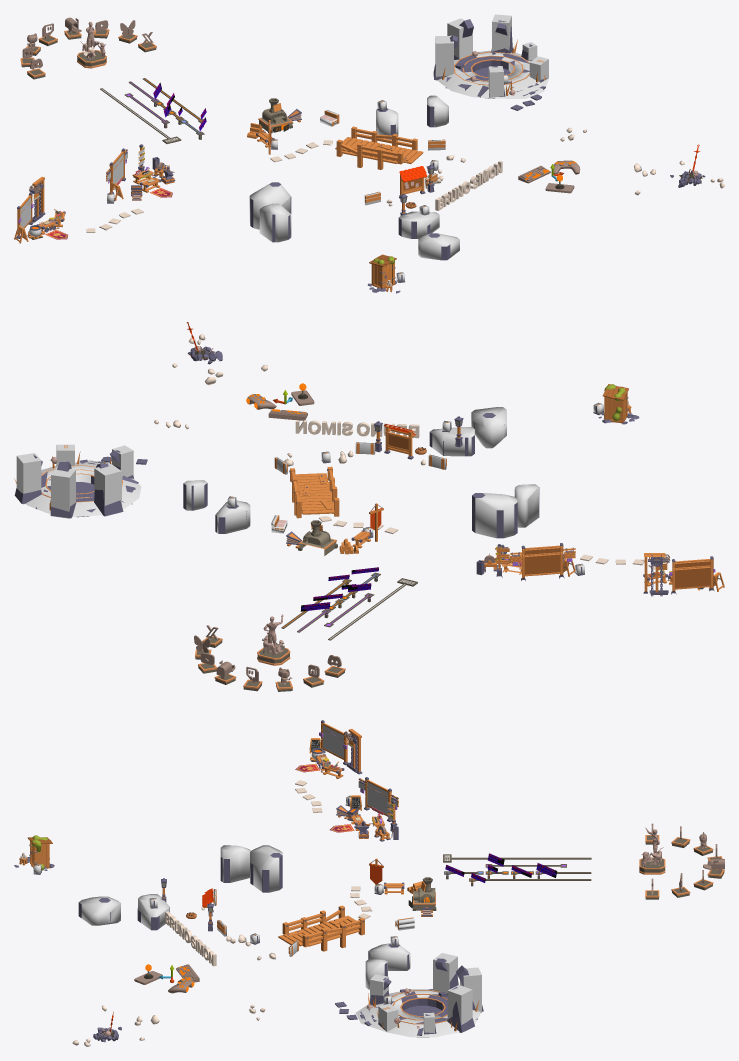
The model's file is scenery.glb.
The picture shows the model from 3 angles, top to bottom: view 1: azimuth 30°, elevation 25°; view 2: azimuth 150°, elevation 25°; view 3: azimuth 270°, elevation 25°; orthographic projection. The views are drawn at different scales.
Visible parts, largest first — view 1: bridge.001, trimesh.001, Cube.159, hull.016, Cylinder.021, hull.015, hull.011, hull.012, Cube.165, Cube.172, Cube.164, Cube.146 (+4 smaller); view 2: bridge.001, trimesh.001, hull.015, Cube.159, Cube.172, hull.011, Cube.164, hull.012, Cube.146, hull.016, Cube.165, hull.014 (+2 smaller); view 3: bridge.001, trimesh.001, hull.015, Cube.159, Cube.172, hull.011, Cylinder.021, hull.016, hull.014, Cube.146, hull.012, Cube.165 (+2 smaller).
Boxes of the visible parts, <box> form: bridge.001: <box>335,126,423,169</box>; trimesh.001: <box>438,50,549,98</box>; Cube.159: <box>20,29,156,79</box>; hull.016: <box>259,203,291,242</box>; Cylinder.021: <box>454,53,545,96</box>; hull.015: <box>249,183,290,229</box>; hull.011: <box>418,233,459,260</box>; hull.012: <box>399,211,439,238</box>; Cube.165: <box>435,35,453,80</box>; Cube.172: <box>433,19,532,97</box>; Cube.164: <box>447,18,472,58</box>; Cube.146: <box>492,14,511,51</box>; bridge.001: <box>290,466,339,518</box>; trimesh.001: <box>26,460,141,517</box>; hull.015: <box>475,493,517,538</box>; Cube.159: <box>195,635,345,691</box>; Cube.172: <box>14,450,133,518</box>; hull.011: <box>471,407,506,448</box>; Cube.164: <box>51,467,75,518</box>; hull.012: <box>430,427,474,456</box>; Cube.146: <box>16,453,41,504</box>; hull.016: <box>514,484,538,527</box>; Cube.165: <box>94,464,121,516</box>; hull.014: <box>215,500,250,533</box>; bridge.001: <box>278,905,364,951</box>; trimesh.001: <box>355,989,480,1037</box>; hull.015: <box>250,845,282,892</box>; Cube.159: <box>645,835,724,899</box>; Cube.172: <box>370,958,483,1034</box>; hull.011: <box>79,896,120,925</box>; Cylinder.021: <box>360,991,447,1025</box>; hull.016: <box>220,845,250,882</box>; hull.014: <box>368,943,410,970</box>; Cube.146: <box>447,985,472,1032</box>; hull.012: <box>137,894,169,929</box>; Cube.165: <box>433,953,457,993</box>.
Bounding box in the file's own units: 83.84 × 8.2 × 85.35.
37 materials, 10 textured.
